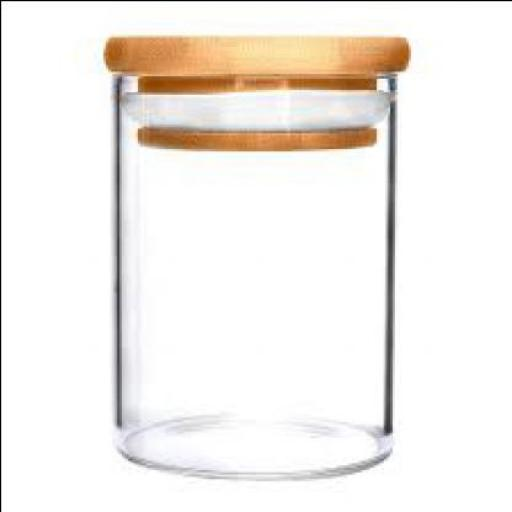glass: (111, 73, 392, 476)
